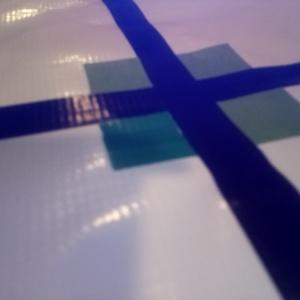bottom_left: (99, 91, 217, 170)
bottom_right: (189, 80, 299, 145)
top_left: (84, 58, 178, 111)
top_right: (176, 42, 253, 93)
